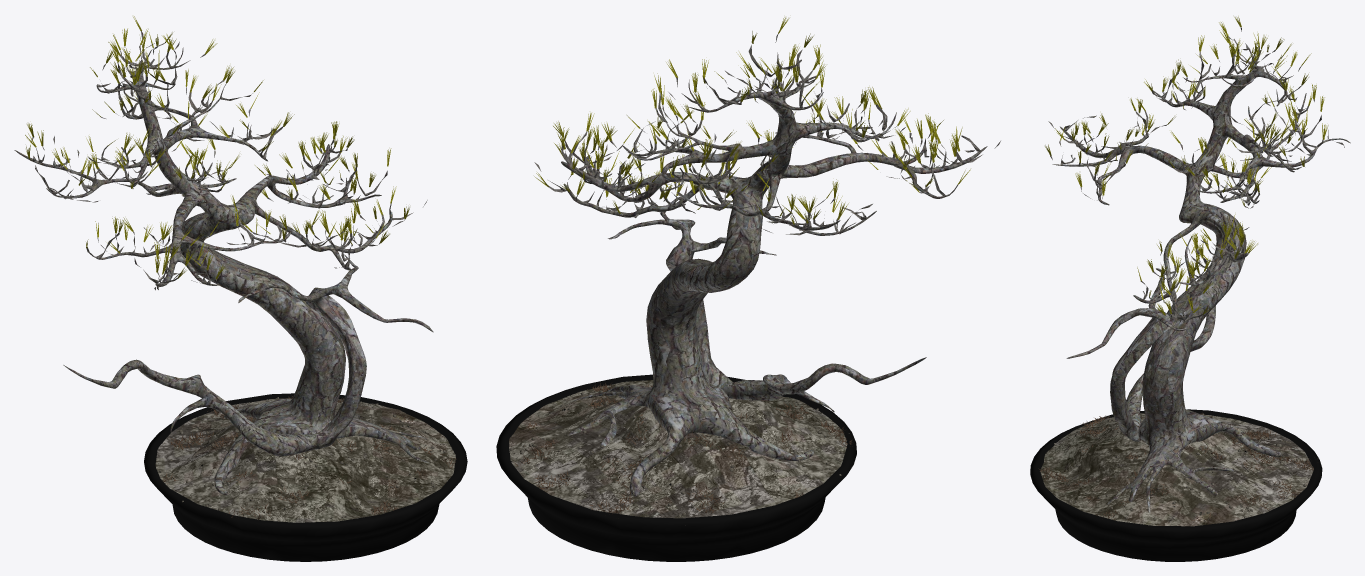
3 renders of one model, left to right at view 1: azimuth 30°, elevation 25°; view 2: azimuth 150°, elevation 25°; view 3: azimuth 270°, elevation 25°, orthographic. The views are drawn at different scales.
Parts seen in each view (by area): view 1: Obj3d66_587530_404_483, Obj3d66_587530_398_132, Obj3d66_587530_397_291, Obj3d66_587530_401_118, Obj3d66_587530_402_957, Obj3d66_587530_403_29, Obj3d66_587530_400_841, Obj3d66_587530_399_415; view 2: Obj3d66_587530_404_483, Obj3d66_587530_398_132, Obj3d66_587530_397_291, Obj3d66_587530_402_957, Obj3d66_587530_403_29, Obj3d66_587530_401_118, Obj3d66_587530_400_841, Obj3d66_587530_399_415; view 3: Obj3d66_587530_404_483, Obj3d66_587530_398_132, Obj3d66_587530_397_291, Obj3d66_587530_402_957, Obj3d66_587530_403_29, Obj3d66_587530_401_118, Obj3d66_587530_400_841, Obj3d66_587530_399_415.
Part boxes in pixels (x1,y1,x2,y2): Obj3d66_587530_404_483: [14, 47, 429, 495]; Obj3d66_587530_398_132: [155, 398, 455, 522]; Obj3d66_587530_397_291: [144, 393, 467, 561]; Obj3d66_587530_401_118: [63, 254, 433, 456]; Obj3d66_587530_402_957: [25, 16, 409, 279]; Obj3d66_587530_403_29: [29, 31, 427, 290]; Obj3d66_587530_400_841: [162, 396, 456, 519]; Obj3d66_587530_399_415: [159, 397, 455, 521]; Obj3d66_587530_404_483: [561, 68, 987, 496]; Obj3d66_587530_398_132: [509, 380, 847, 525]; Obj3d66_587530_397_291: [496, 374, 856, 561]; Obj3d66_587530_402_957: [534, 17, 970, 224]; Obj3d66_587530_403_29: [534, 34, 1000, 235]; Obj3d66_587530_401_118: [608, 211, 926, 412]; Obj3d66_587530_400_841: [513, 383, 853, 515]; Obj3d66_587530_399_415: [509, 386, 849, 518]; Obj3d66_587530_404_483: [1052, 43, 1350, 513]; Obj3d66_587530_398_132: [1040, 413, 1313, 526]; Obj3d66_587530_397_291: [1030, 409, 1322, 561]; Obj3d66_587530_402_957: [1045, 16, 1328, 315]; Obj3d66_587530_403_29: [1048, 27, 1344, 322]; Obj3d66_587530_401_118: [1066, 236, 1215, 441]; Obj3d66_587530_400_841: [1038, 412, 1318, 521]; Obj3d66_587530_399_415: [1040, 413, 1310, 523].
Bounding box in the file's own units: 315 × 381 × 253.
Materials: 27 (26 with a texture image).
